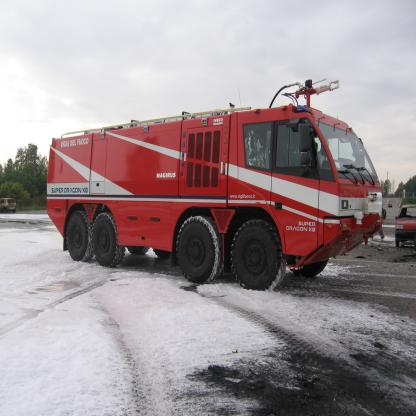Car: (394, 204, 416, 251), (0, 197, 17, 213)
Truck: (47, 78, 387, 290)
